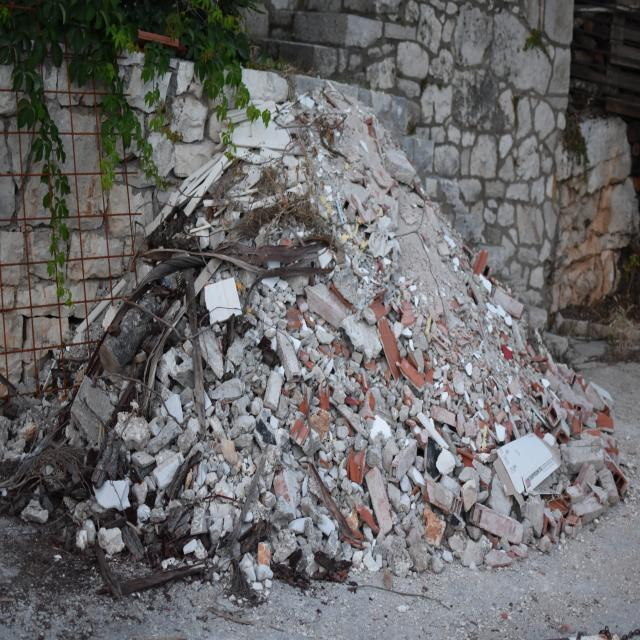entulho: (21, 251, 292, 521), (212, 290, 433, 556), (453, 380, 597, 538), (171, 115, 302, 280), (304, 131, 402, 293), (473, 279, 571, 416), (85, 518, 227, 587)
